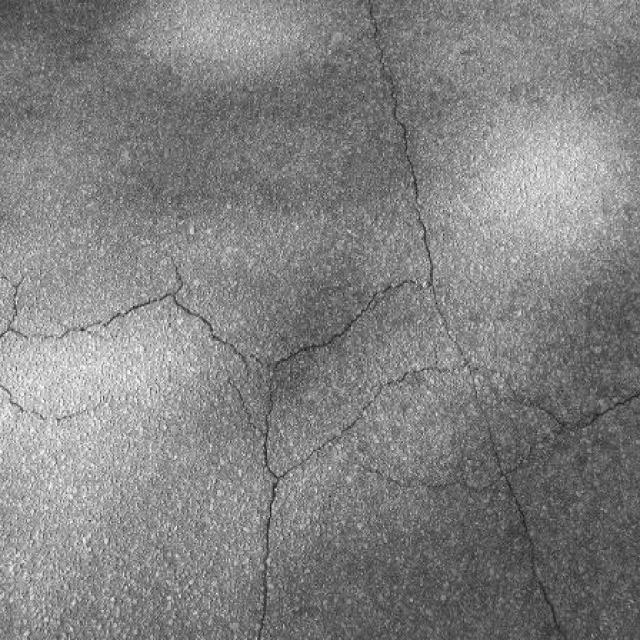Crack: (1, 261, 485, 639), (342, 240, 640, 639), (372, 0, 426, 231), (4, 389, 96, 422)
